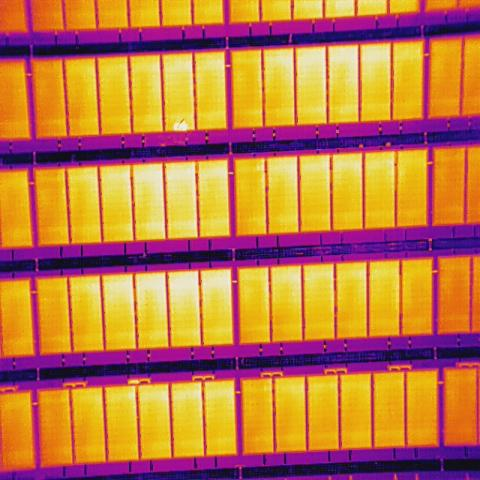fault: (172, 120, 188, 132)
